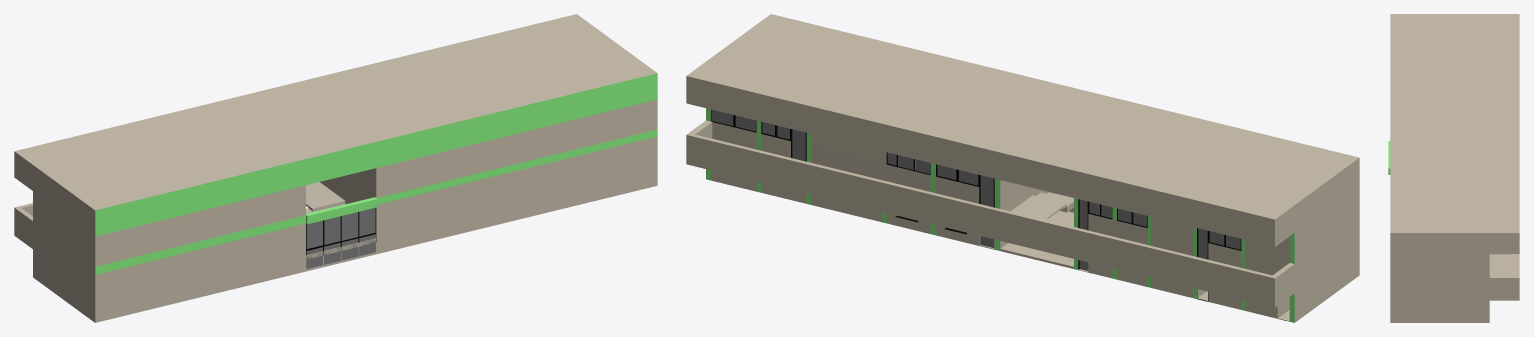
The model's file is edificioF.glb.
3 renders of one model, left to right at view 1: azimuth 30°, elevation 25°; view 2: azimuth 150°, elevation 25°; view 3: azimuth 270°, elevation 25°, orthographic. The views are drawn at different scales.
Visible parts, largest first — view 1: Cube; view 2: Cube; view 3: Cube.
Boxes of the visible parts, box(x1,y1,x2,y2) form: Cube: box(14, 14, 657, 322); Cube: box(686, 14, 1359, 322); Cube: box(1388, 14, 1519, 322).
Bounding box in the file's own units: 10.46 × 2 × 2.65.
